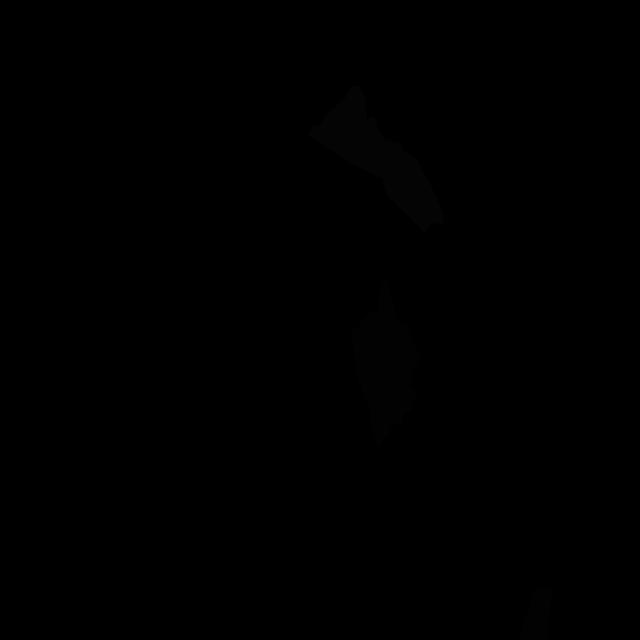cardboard: (351, 276, 422, 447), (518, 585, 553, 640)
soft_plastic: (308, 86, 444, 234)
